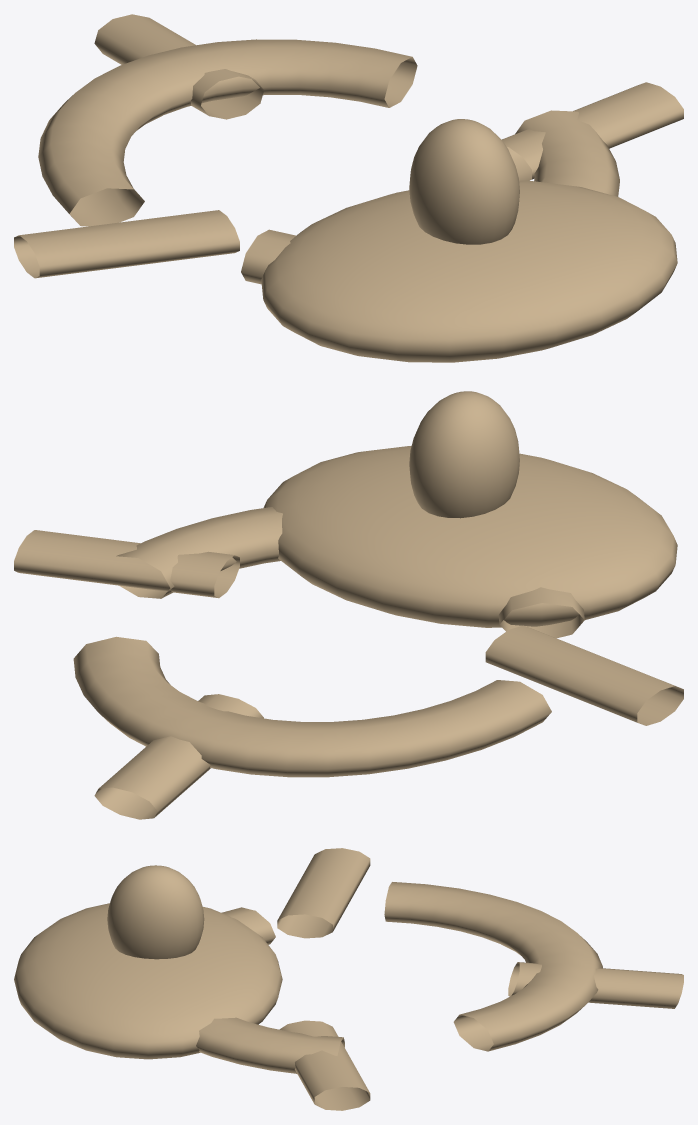
The picture shows the model from 3 angles, top to bottom: view 1: azimuth 30°, elevation 25°; view 2: azimuth 150°, elevation 25°; view 3: azimuth 270°, elevation 25°; orthographic projection. The views are drawn at different scales.
Visible parts, largest first — view 1: c2:centrum, c2:neural-arch--1, c2:dens, c2:transverse--1, c2:neural-arch-1, c2:transverse-1, c2:spinous-process; view 2: c2:centrum, c2:neural-arch--1, c2:dens, c2:transverse--1, c2:transverse-1, c2:neural-arch-1, c2:spinous-process; view 3: c2:centrum, c2:neural-arch--1, c2:dens, c2:neural-arch-1, c2:transverse--1, c2:transverse-1, c2:spinous-process.
Boxes of the visible parts, left/top/right/bottom form: c2:centrum: left=261, top=180, right=677, bottom=362; c2:neural-arch--1: left=38, top=39, right=417, bottom=226; c2:dens: left=409, top=119, right=519, bottom=244; c2:transverse--1: left=14, top=210, right=239, bottom=278; c2:neural-arch-1: left=241, top=110, right=619, bottom=284; c2:transverse-1: left=502, top=82, right=683, bottom=180; c2:spinous-process: left=94, top=14, right=263, bottom=119; c2:centrum: left=263, top=446, right=677, bottom=627; c2:neural-arch--1: left=73, top=636, right=551, bottom=777; c2:dens: left=409, top=391, right=519, bottom=518; c2:transverse--1: left=485, top=625, right=683, bottom=725; c2:transverse-1: left=14, top=530, right=239, bottom=598; c2:neural-arch-1: left=116, top=507, right=584, bottom=638; c2:spinous-process: left=94, top=694, right=263, bottom=819; c2:centrum: left=14, top=903, right=282, bottom=1059; c2:neural-arch--1: left=384, top=882, right=602, bottom=1051; c2:dens: left=107, top=865, right=204, bottom=959; c2:neural-arch-1: left=196, top=907, right=344, bottom=1073; c2:transverse--1: left=277, top=848, right=370, bottom=938; c2:transverse-1: left=279, top=1020, right=370, bottom=1110; c2:spinous-process: left=508, top=962, right=683, bottom=1008.
Bounding box in the file's own units: 0.135 × 0.0383 × 0.1575.
